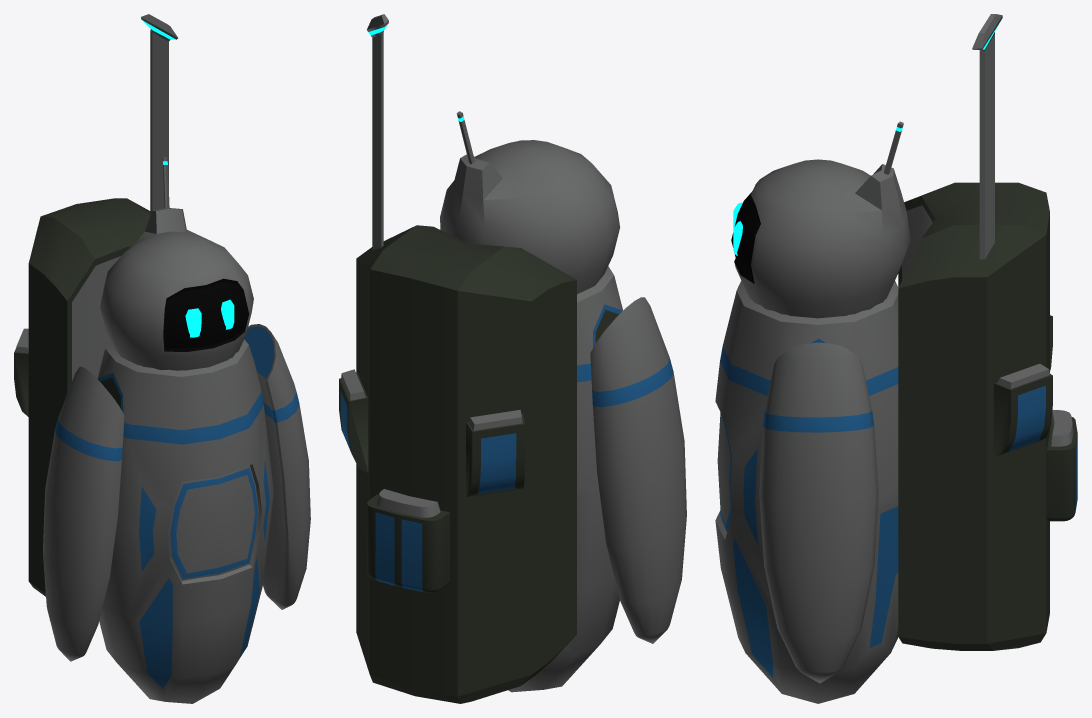
The picture shows the model from 3 angles, left to right: view 1: azimuth 30°, elevation 25°; view 2: azimuth 150°, elevation 25°; view 3: azimuth 270°, elevation 25°; orthographic projection. The views are drawn at different scales.
Parts seen in each view (by area): view 1: Main Body-Basic, Backpack - Adventurer, Head - Basic, Right Arm - Basic.001, Right Arm - Basic, Core - Basic; view 2: Backpack - Adventurer, Right Arm - Basic.001, Head - Basic, Main Body-Basic; view 3: Backpack - Adventurer, Right Arm - Basic, Main Body-Basic, Head - Basic, Core - Basic.
Part boxes in pixels (x1,y1,x2,y2): Main Body-Basic: (97, 339, 273, 703); Backpack - Adventurer: (14, 14, 177, 596); Head - Basic: (100, 156, 253, 370); Right Arm - Basic.001: (43, 366, 124, 661); Right Arm - Basic: (244, 324, 310, 609); Core - Basic: (168, 465, 258, 580); Backpack - Adventurer: (339, 14, 576, 703); Right Arm - Basic.001: (590, 297, 686, 643); Head - Basic: (440, 111, 620, 294); Main Body-Basic: (508, 266, 622, 692); Backpack - Adventurer: (898, 14, 1077, 650); Right Arm - Basic: (759, 342, 878, 683); Main Body-Basic: (715, 280, 898, 703); Head - Basic: (731, 121, 910, 318); Core - Basic: (717, 412, 731, 532).
Bounding box in the file's own units: 81.39 × 191 × 88.45.
